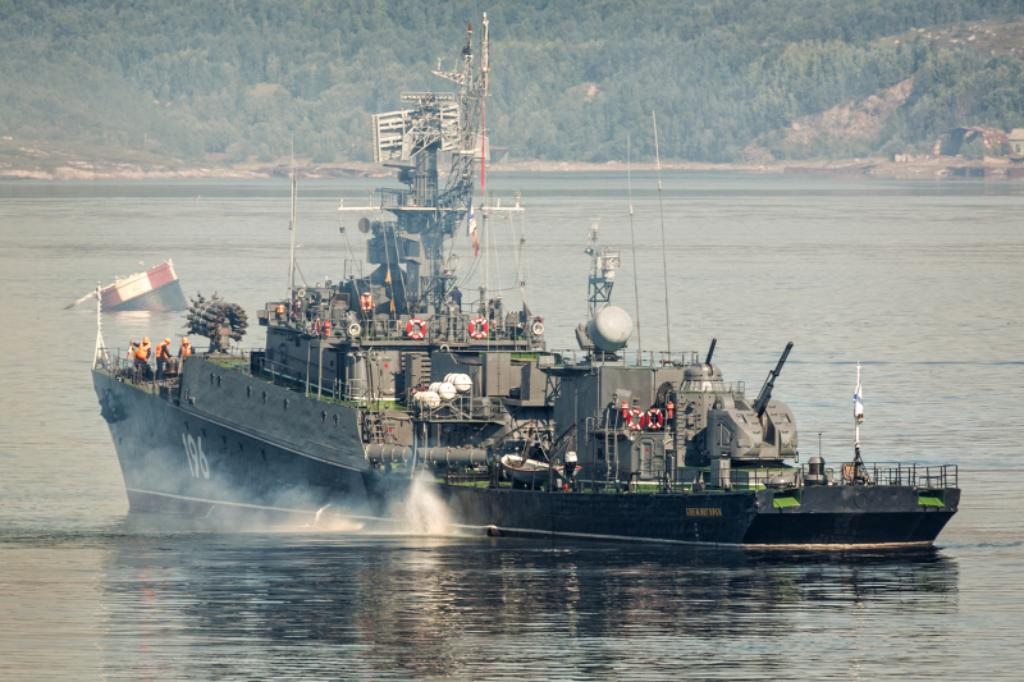Warship: (88, 15, 966, 552)
